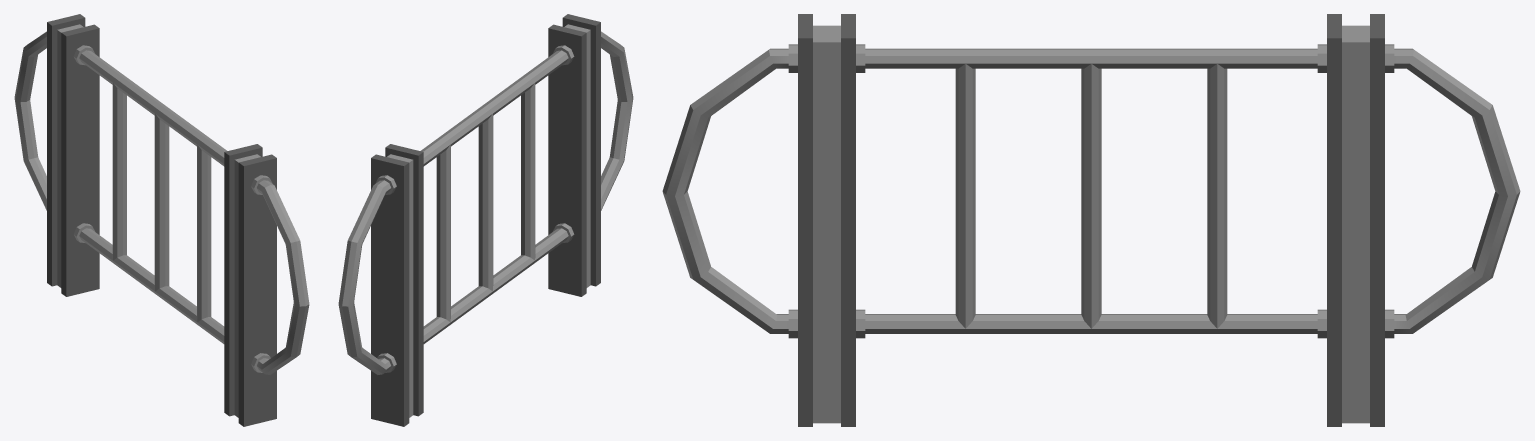
File: Fence_07.FBX
3 views of the same model, side by side, from view 1: azimuth 30°, elevation 25°; view 2: azimuth 150°, elevation 25°; view 3: azimuth 270°, elevation 25° (orthographic). The views are drawn at different scales.
Parts seen in each view (by area): view 1: Fence_07_LOD0; view 2: Fence_07_LOD0; view 3: Fence_07_LOD0.
Part boxes in pixels (x1,y1,x2,y2): Fence_07_LOD0: [14, 14, 309, 426]; Fence_07_LOD0: [338, 14, 633, 426]; Fence_07_LOD0: [662, 14, 1520, 426].
Size of what is drawn, in the model's own units: 8 by 60 by 120.
